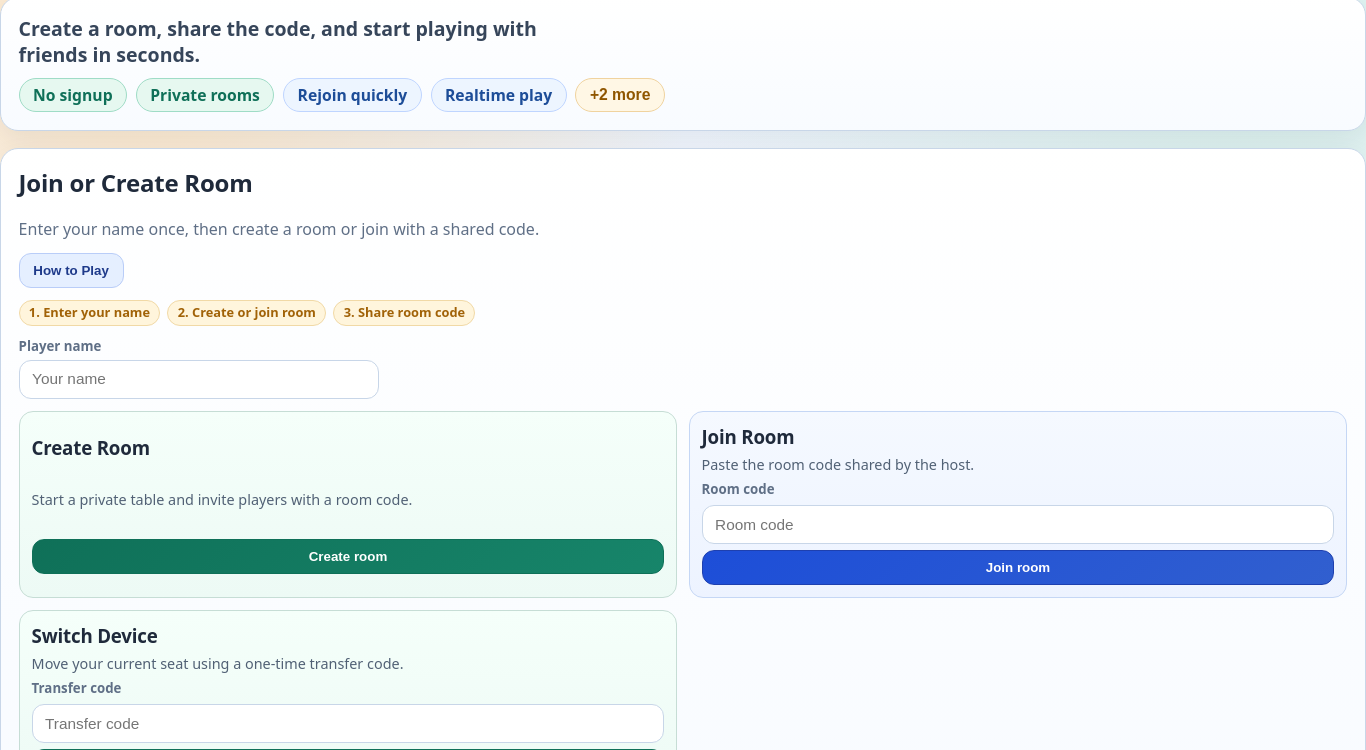
Test case: GameClient › shows duplicate-name join error directly in lobby
The width and height of the screenshot is (1366, 750).
Type "Guest" into the field labelled "name".
click(199, 379); type("Guest")  # box [19,360,379,399]
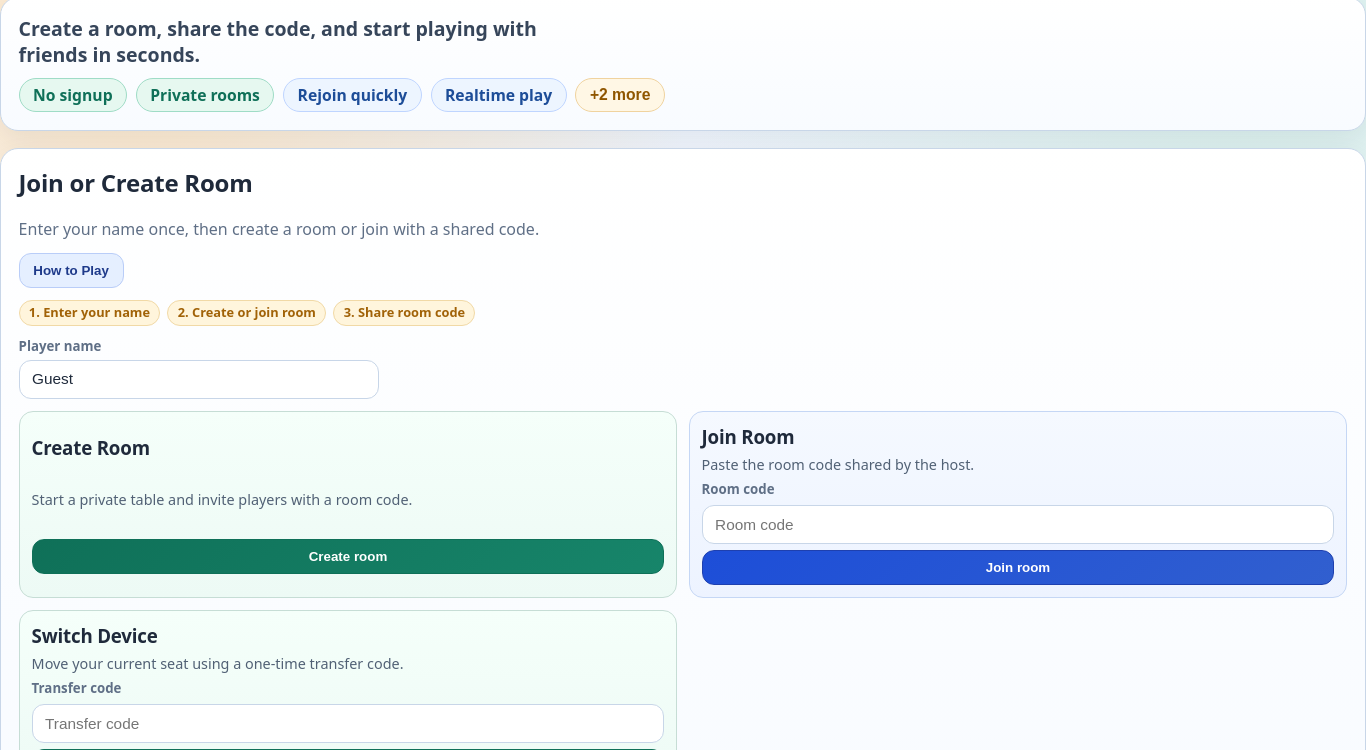
Type "ROOM01" into the field named "room-code".
click(1018, 525); type("ROOM01")  # box [702,506,1334,544]
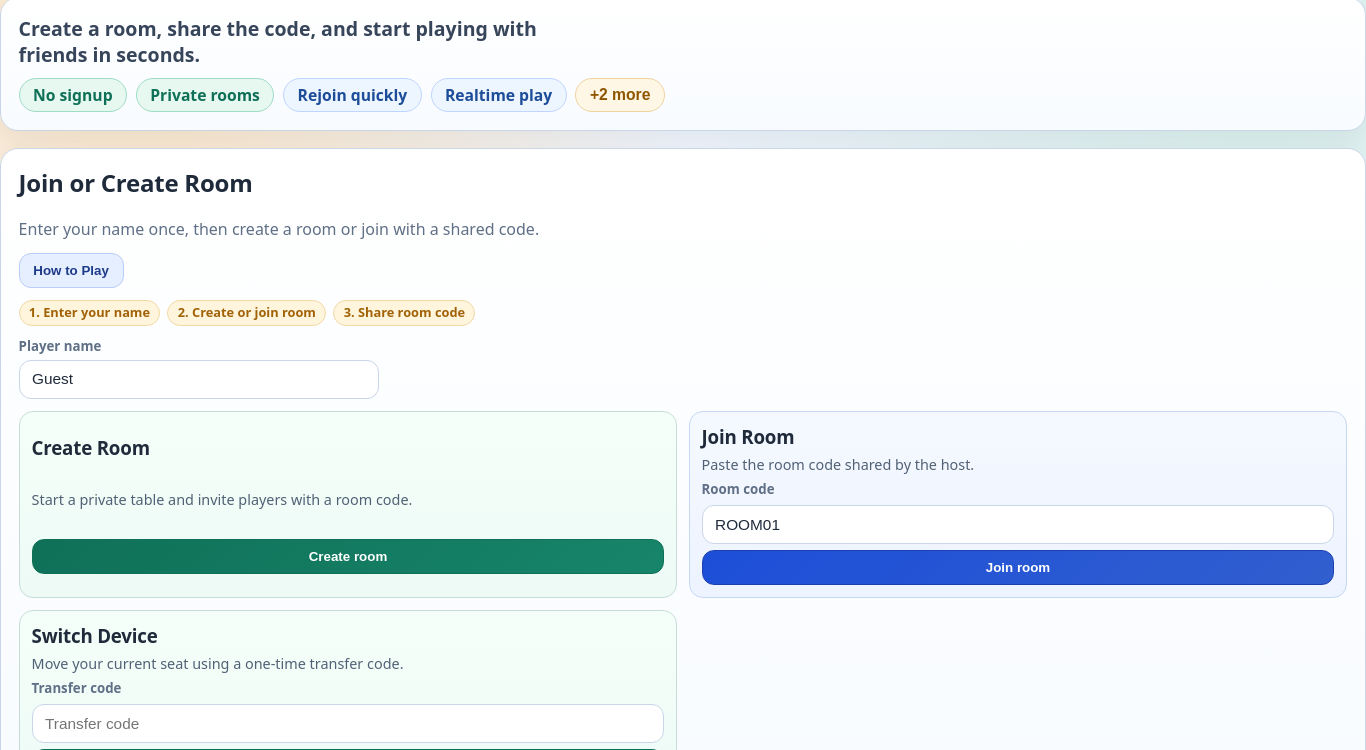
Click the button "Join room".
click(1018, 568)  # box [702,550,1334,585]
(page scrolled)
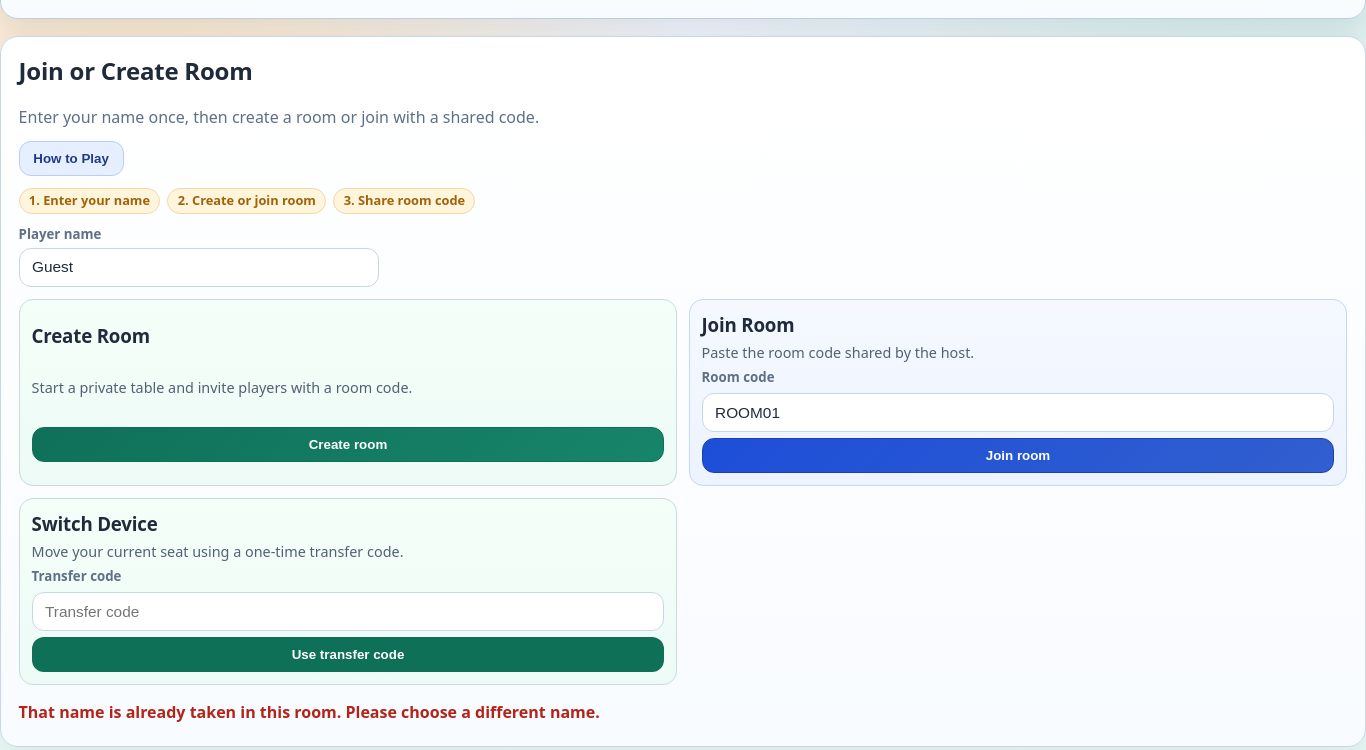
Expected: the text "That name is already taken in this room. Please choose a different name." is shown, [19,701,600,723]
